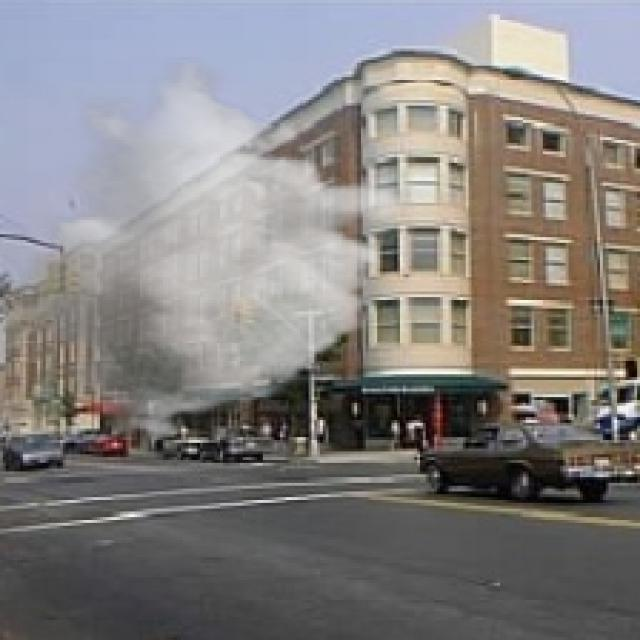smoke: (6, 57, 414, 443)
